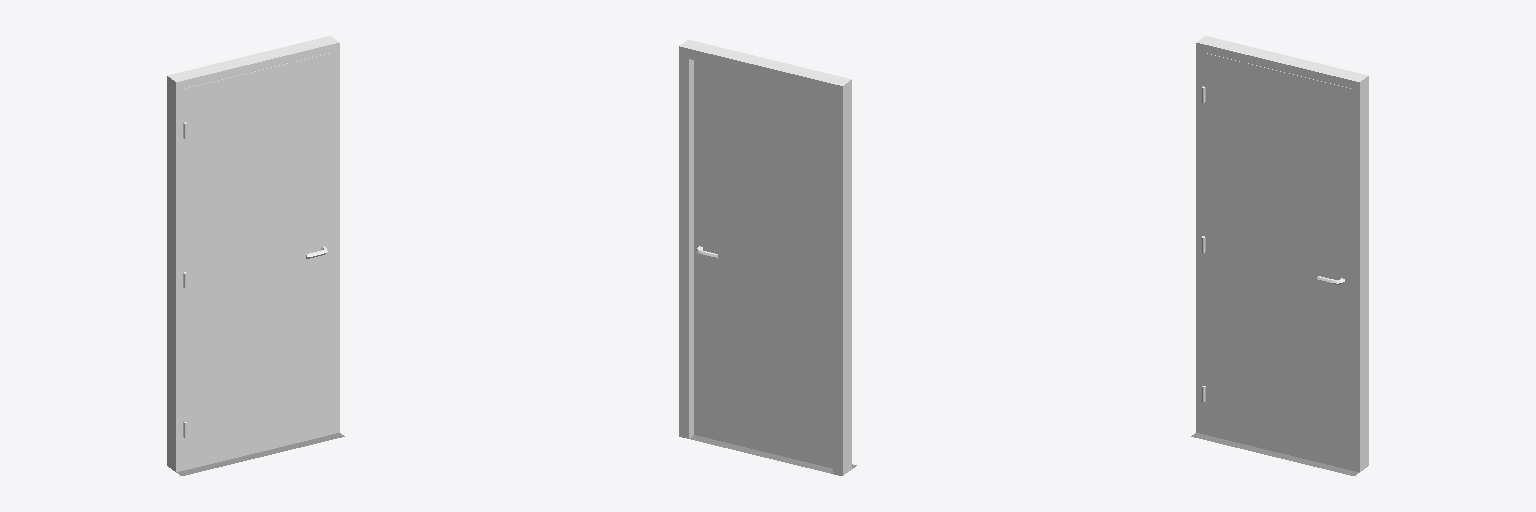
File: porta_fechada.obj
The picture shows the model from 3 angles: view 1: azimuth 30°, elevation 25°; view 2: azimuth 150°, elevation 25°; view 3: azimuth 330°, elevation 25°; orthographic projection.
Parts seen in each view (by area): view 1: sweethome3d_opening_on_hinge_1_door_10, frame_2, ground_1; view 2: sweethome3d_opening_on_hinge_1_door_10, frame_2, ground_1; view 3: sweethome3d_opening_on_hinge_1_door_10, frame_2, ground_1.
Part boxes in pixels (bbox=[...]): sweethome3d_opening_on_hinge_1_door_10: bbox=[184, 53, 331, 470]; frame_2: bbox=[167, 36, 339, 471]; ground_1: bbox=[176, 433, 344, 475]; sweethome3d_opening_on_hinge_1_door_10: bbox=[694, 60, 832, 468]; frame_2: bbox=[679, 40, 851, 475]; ground_1: bbox=[682, 435, 856, 475]; sweethome3d_opening_on_hinge_1_door_10: bbox=[1204, 53, 1351, 470]; frame_2: bbox=[1196, 36, 1368, 471]; ground_1: bbox=[1191, 433, 1359, 475].
Bounding box in the file's own units: 91.5 × 208 × 14.5.